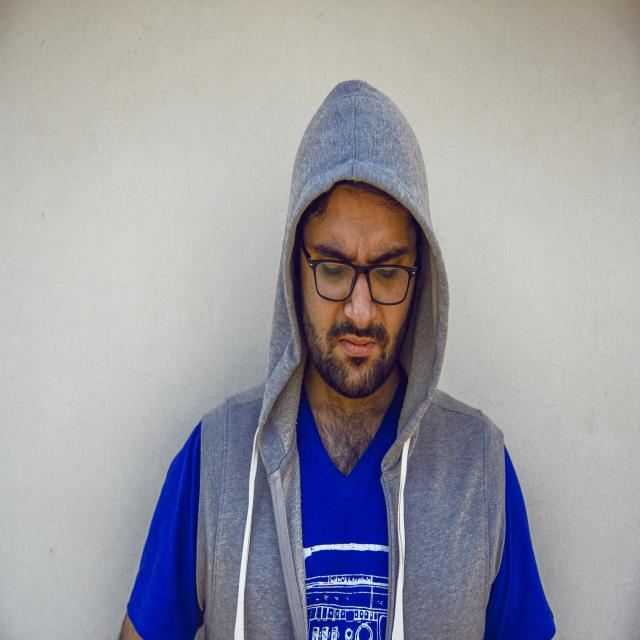4_capucha: (257, 80, 451, 475)
